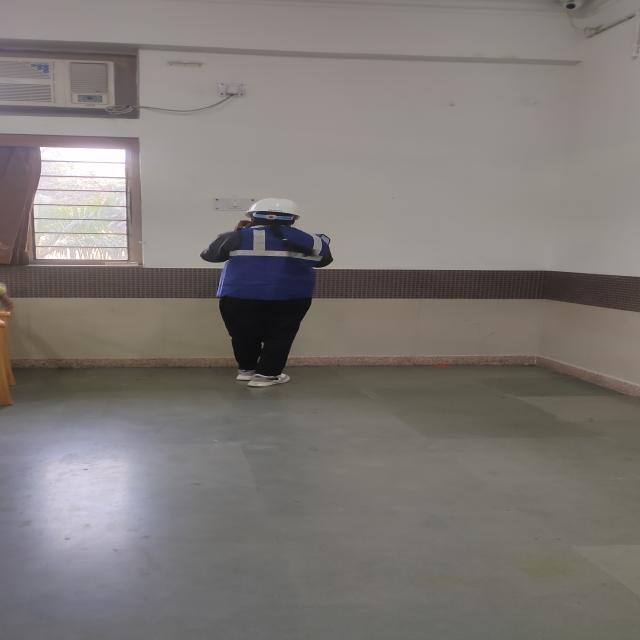safe: (200, 198, 332, 387)
